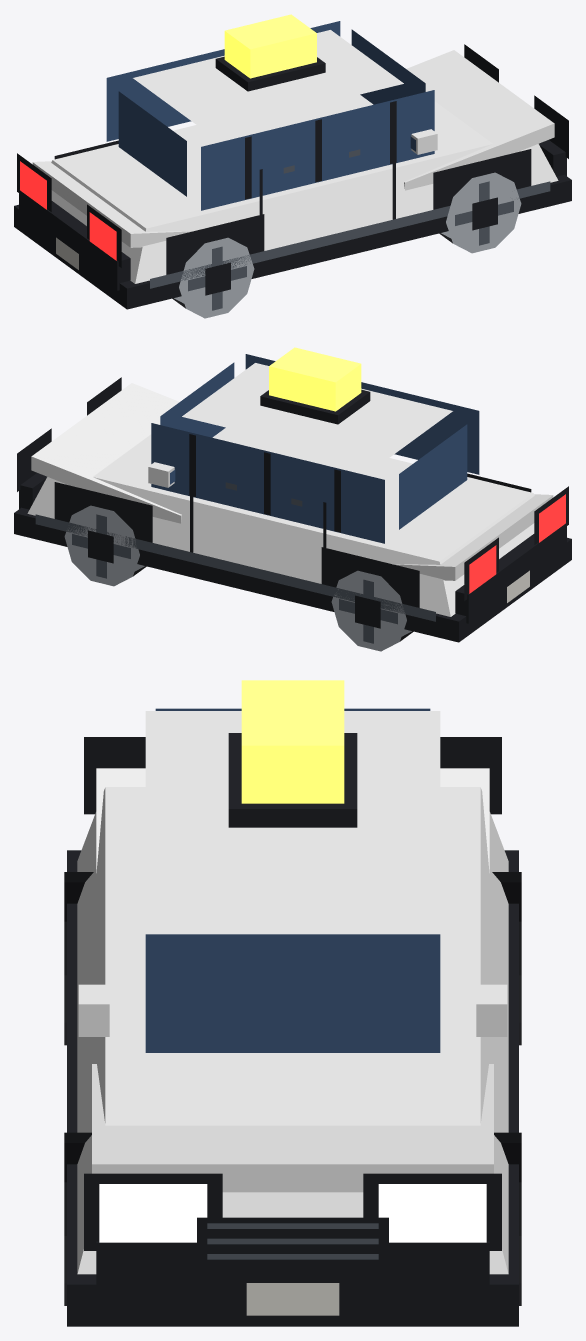
The model's file is car_taxi.glb.
3 views of the same model, one above another, from view 1: azimuth 30°, elevation 25°; view 2: azimuth 150°, elevation 25°; view 3: azimuth 270°, elevation 25° (orthographic). The views are drawn at different scales.
Parts seen in each view (by area): view 1: car_taxi; view 2: car_taxi; view 3: car_taxi.
Part boxes in pixels (bbox=[...]): car_taxi: bbox=[14, 14, 571, 318]; car_taxi: bbox=[14, 347, 571, 651]; car_taxi: bbox=[64, 680, 521, 1326].
Bounding box in the file's own units: 0.4061 × 0.1845 × 0.1824.
